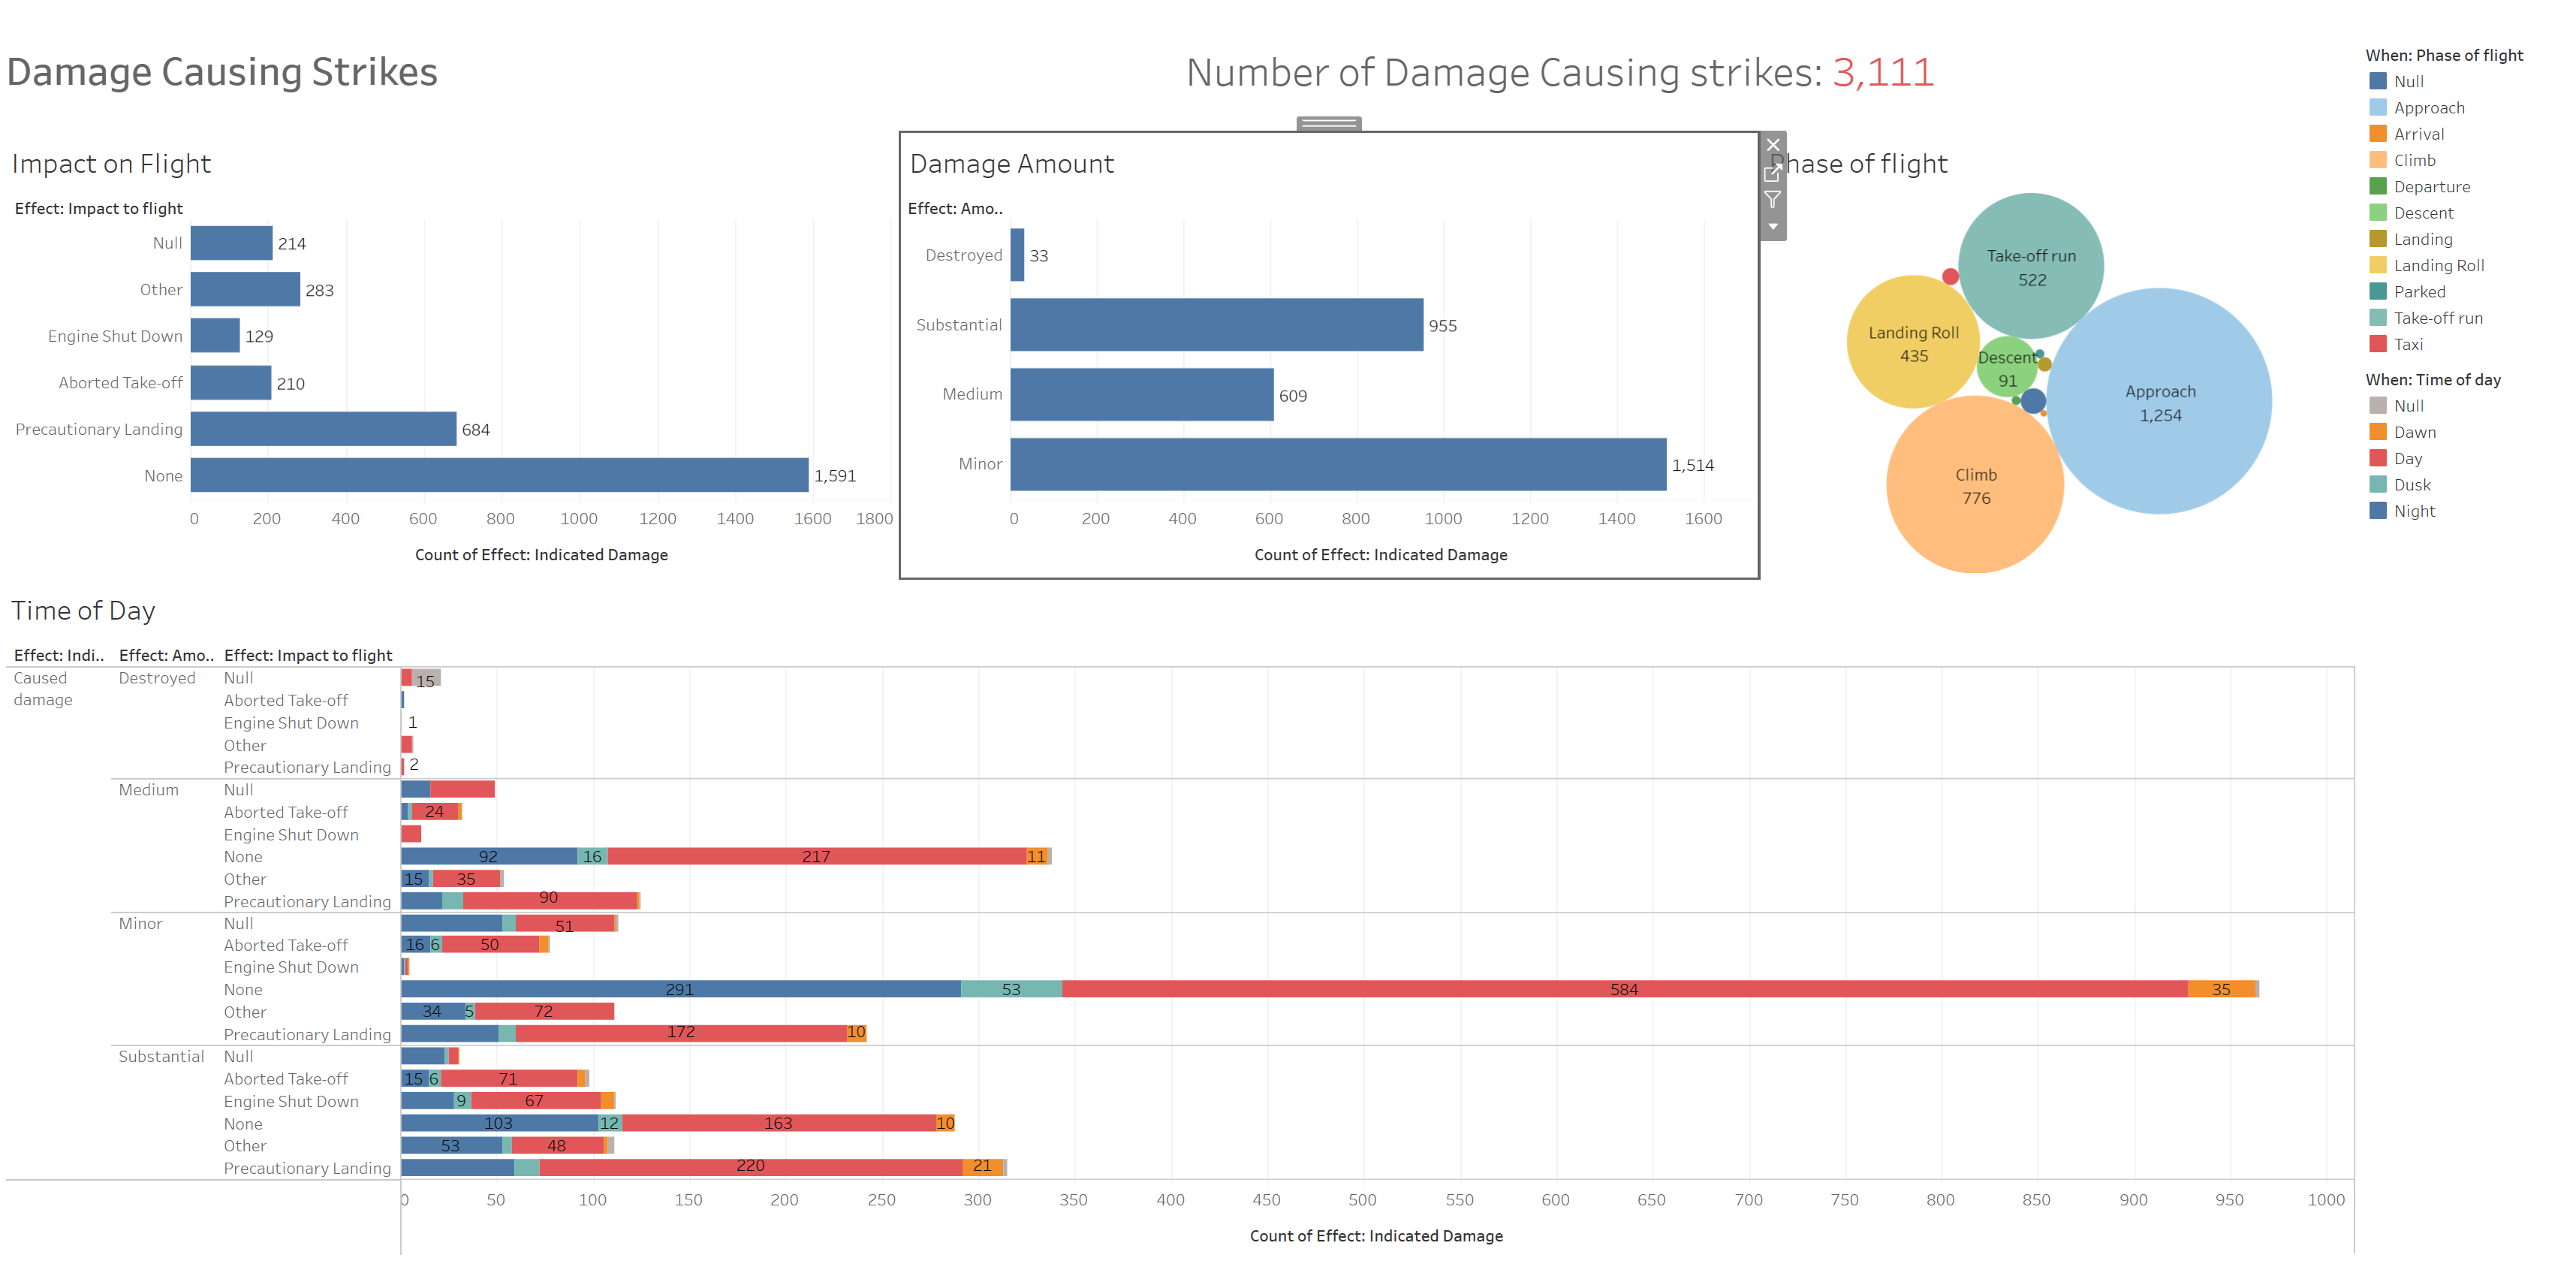

The dashboard page shown, as its layout file describes it:
{"tool":"tableau","page":{"name":"Effect of Strike","canvas":[1000,1000],"units":"permille","ordinal":0},"visuals":[{"type":"text","box":[4.1,8.3,455.3,96]},{"type":"text","box":[459.4,8.3,455.4,96]},{"type":"legend","title":"Phase of flight","param":"[federated.09g25mg09rkg6w10kiey40u899o3].[cnt:Effect: Indicated Damage:qk]","box":[914.8,8.3,81.1,22.7]},{"type":"legend","title":"Phase of flight","param":"[federated.09g25mg09rkg6w10kiey40u899o3].[none:When: Phase of flight:nk]","box":[914.8,31,81.1,255.2]},{"type":"worksheet","title":"Flight Impact","mark":"Automatic","rows":[" Impact to flight"],"cols":[" Indicated Damage"],"box":[4.1,104.3,346.8,351.2]},{"type":"worksheet","title":"Damage","mark":"Automatic","rows":[" Amount of damage (detailed)"],"cols":[" Indicated Damage"],"box":[350.9,104.3,331.7,351.2]},{"type":"worksheet","title":"Phase of flight","mark":"Circle","box":[682.6,104.3,232.2,351.2]},{"type":"legend","title":"Time of Day","param":"[federated.09g25mg09rkg6w10kiey40u899o3].[none:When: Time of day:nk]","box":[914.8,286.1,81.1,131.2]},{"type":"worksheet","title":"Time of Day","mark":"Automatic","rows":[" Indicated Damage"," Amount of damage (detailed)"," Impact to flight"],"cols":[" Indicated Damage"],"box":[4.1,455.6,910.7,536.2]}]}

Visuals, with their boxes on the dashboard's canvas, which has no fixed pixel size, in thousandths of its width and height (x1, y1, x2, y2). These are canvas units, not pixel positions in the 2576x1267 screenshot, which may show the page scaled, cropped or inside an application window:
text: (left=4, top=8, right=459, bottom=104)
text: (left=459, top=8, right=915, bottom=104)
"Phase of flight" legend: (left=915, top=8, right=996, bottom=31)
"Phase of flight" legend: (left=915, top=31, right=996, bottom=286)
"Flight Impact" worksheet: (left=4, top=104, right=351, bottom=456)
"Damage" worksheet: (left=351, top=104, right=683, bottom=456)
"Phase of flight" worksheet (Circle marks): (left=683, top=104, right=915, bottom=456)
"Time of Day" legend: (left=915, top=286, right=996, bottom=417)
"Time of Day" worksheet: (left=4, top=456, right=915, bottom=992)
